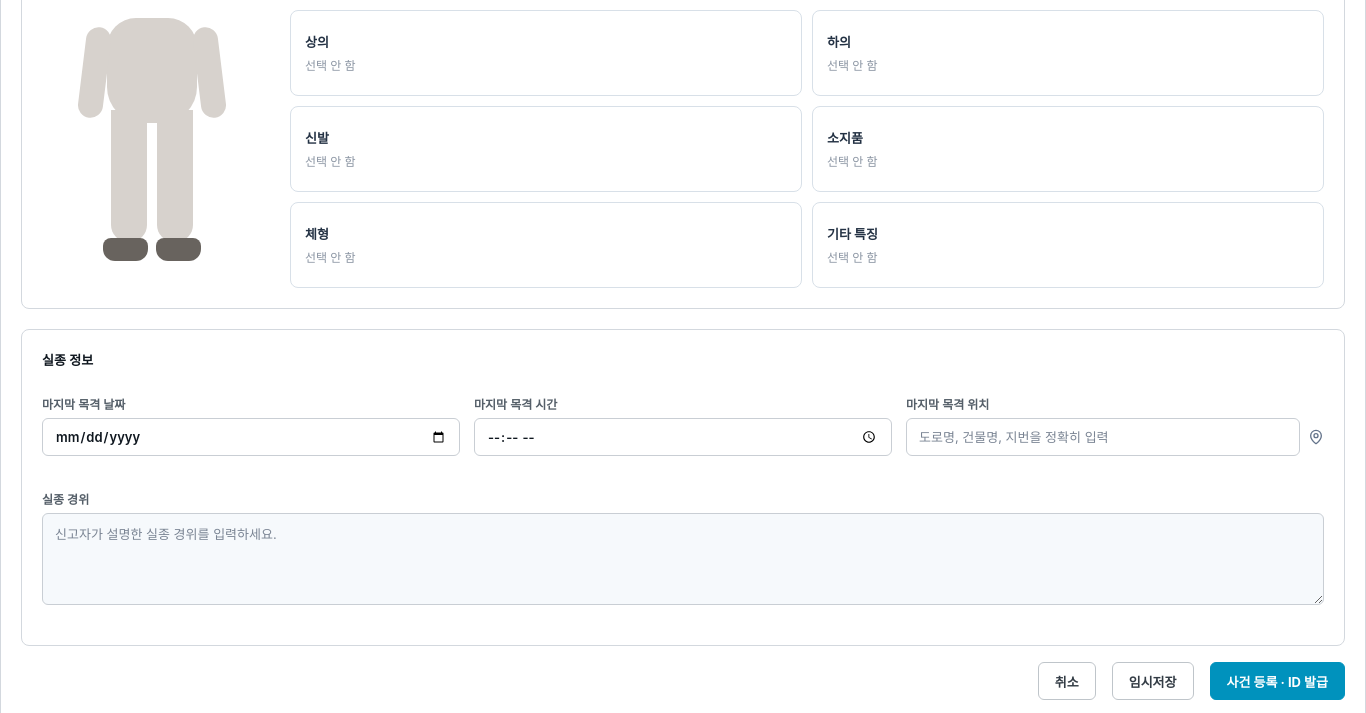
Test: CaseFormView › 필수 입력값이 없으면 등록 확인을 열지 않되 사진은 요구하지 않는다
(page scrolled)
Click the button "사건 등록 · ID 발급": (1277, 681) [1210,662,1345,700]
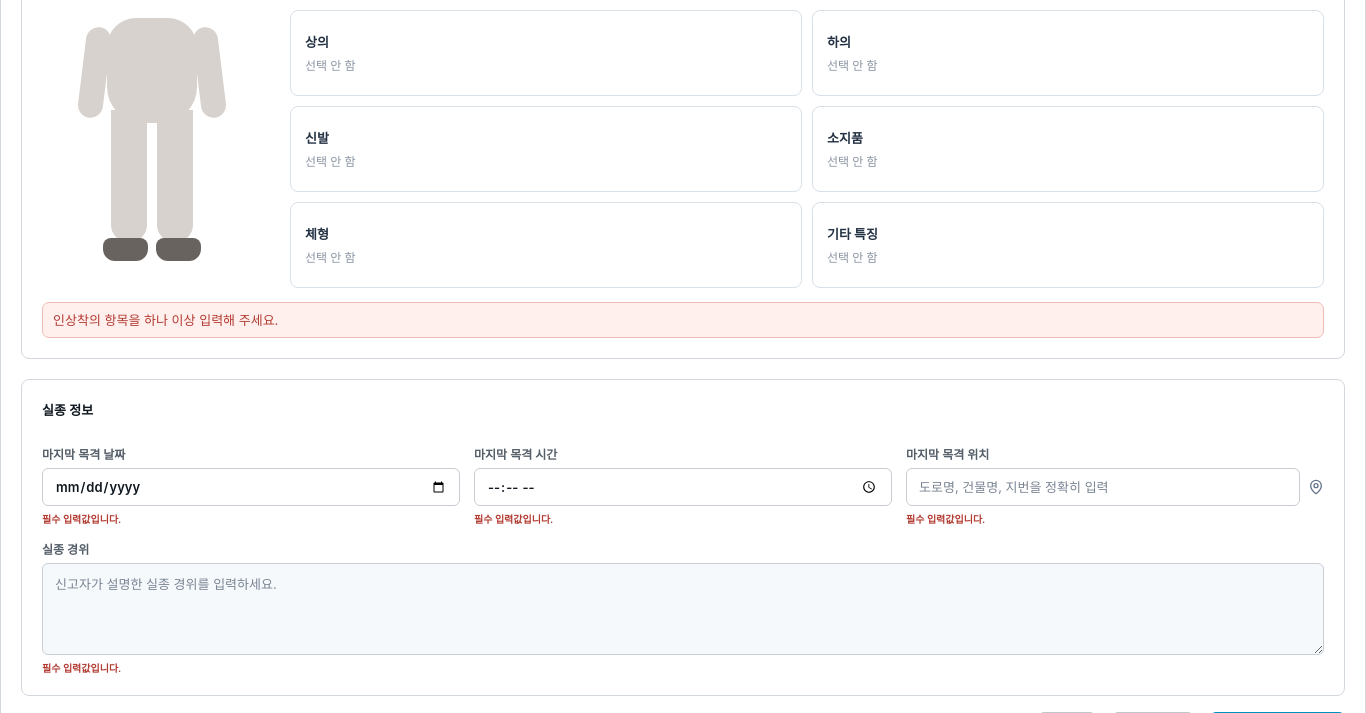
Check: the text with class "form-error" reads "인상착의 항목을 하나 이상 입력해 주세요.", box [53,312,278,328]
Check: the text "인상착의 항목을 하나 이상 입력해 주세요." is shown, box [42,302,1324,338]
